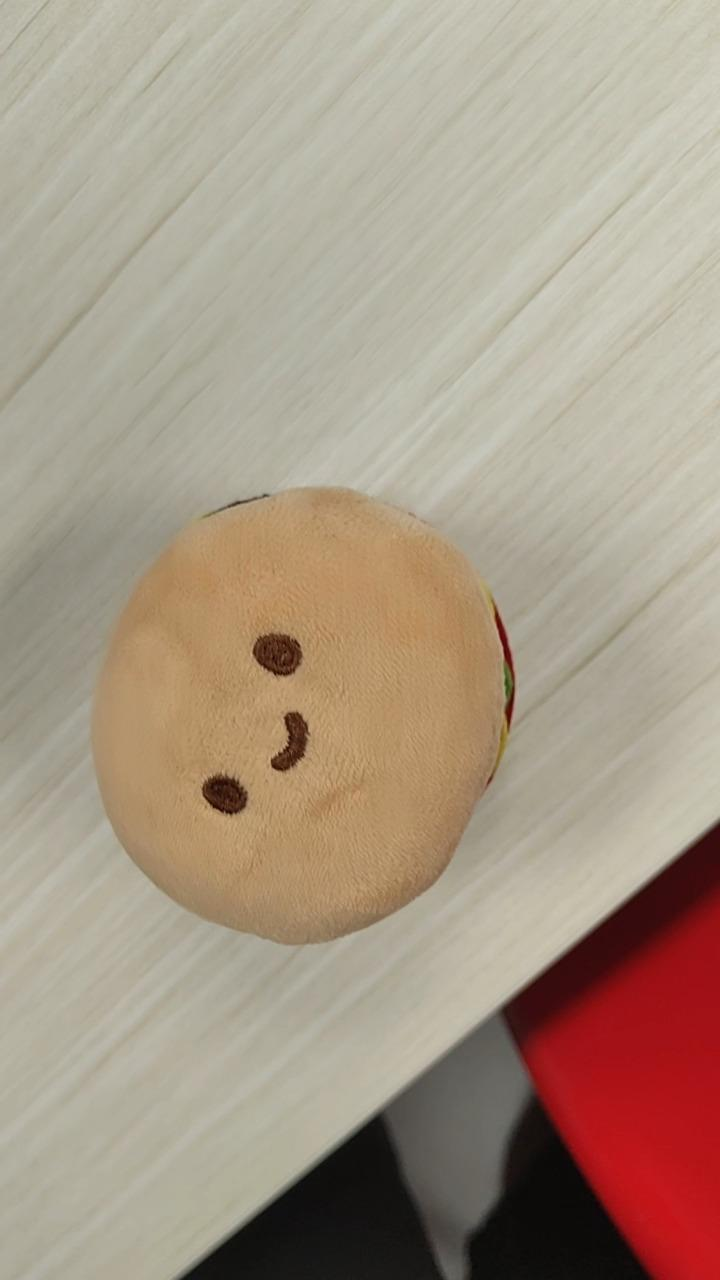hamburger: (89, 483, 516, 947)
